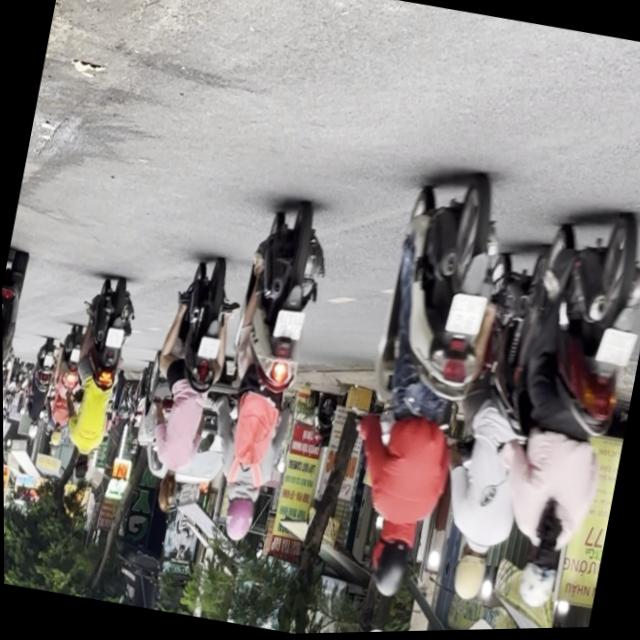helmet: (367, 526, 417, 605), (514, 540, 565, 617), (449, 547, 491, 609), (219, 490, 260, 547)
licenseplate: (325, 165, 517, 611), (473, 201, 640, 623), (420, 238, 569, 613), (195, 195, 340, 553), (130, 253, 248, 520)
motorcyclist: (155, 472, 182, 515)
nohelmet: (446, 296, 487, 341), (596, 331, 637, 372), (274, 311, 305, 344), (196, 338, 220, 361)
